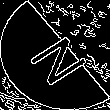N_NE: (18, 24, 92, 86)
